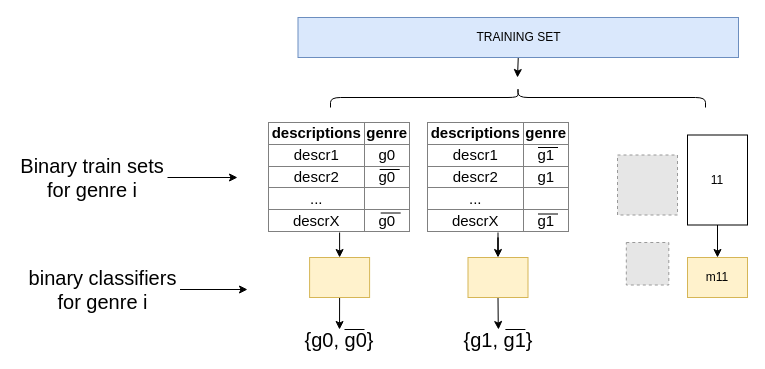
Some shapes in this 765 by 369 pixel diagram are drawn without their labels. Grey dashed boxes stand in for pictures. The box of each missing label's shape, as (x1, y1, x2, y2) in pixels:
m0: (309, 256, 370, 298)
m2: (467, 256, 528, 298)
